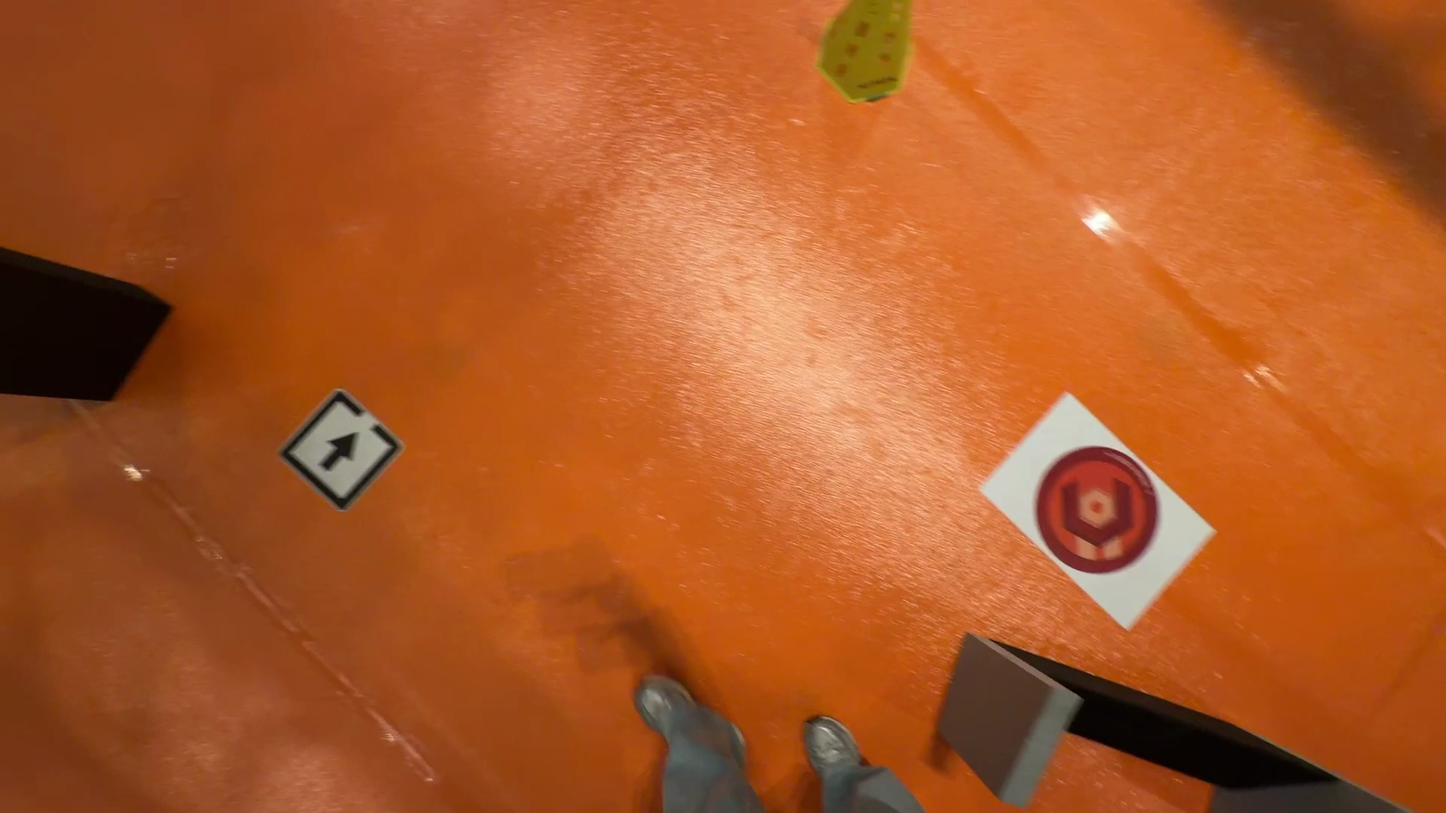landing_pad: (1033, 448, 1161, 571)
